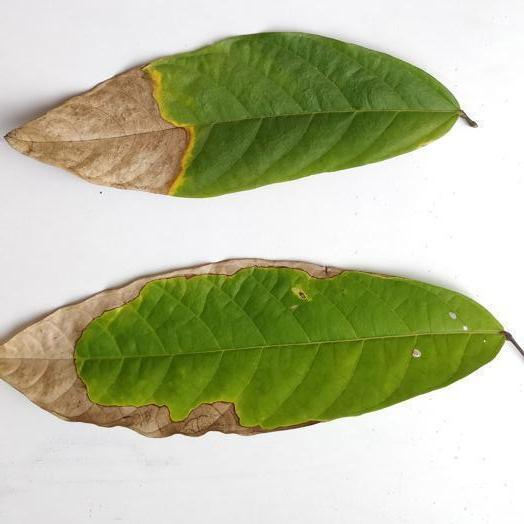Potassium: (0, 259, 523, 436), (6, 32, 474, 197)
